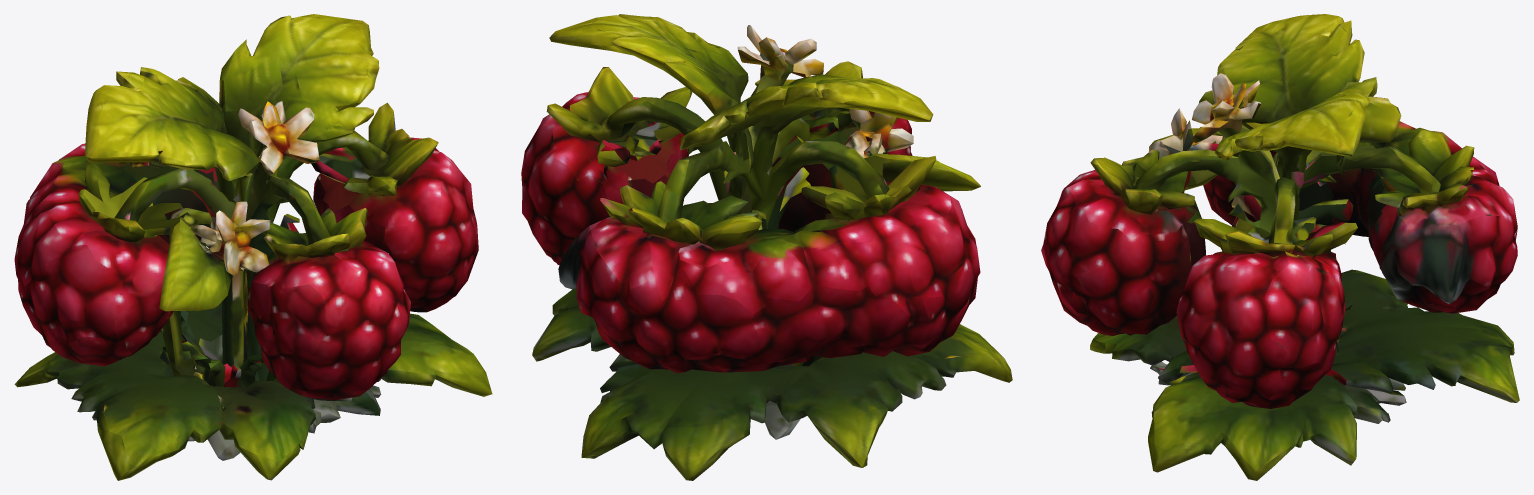
Rendered from BerryBush.glb.
The picture shows the model from 3 angles, left to right: view 1: azimuth 30°, elevation 25°; view 2: azimuth 150°, elevation 25°; view 3: azimuth 270°, elevation 25°; orthographic projection. The views are drawn at different scales.
Bounding box in the file's own units: 1.97 × 1.51 × 1.97.
1 material, 1 textured.
